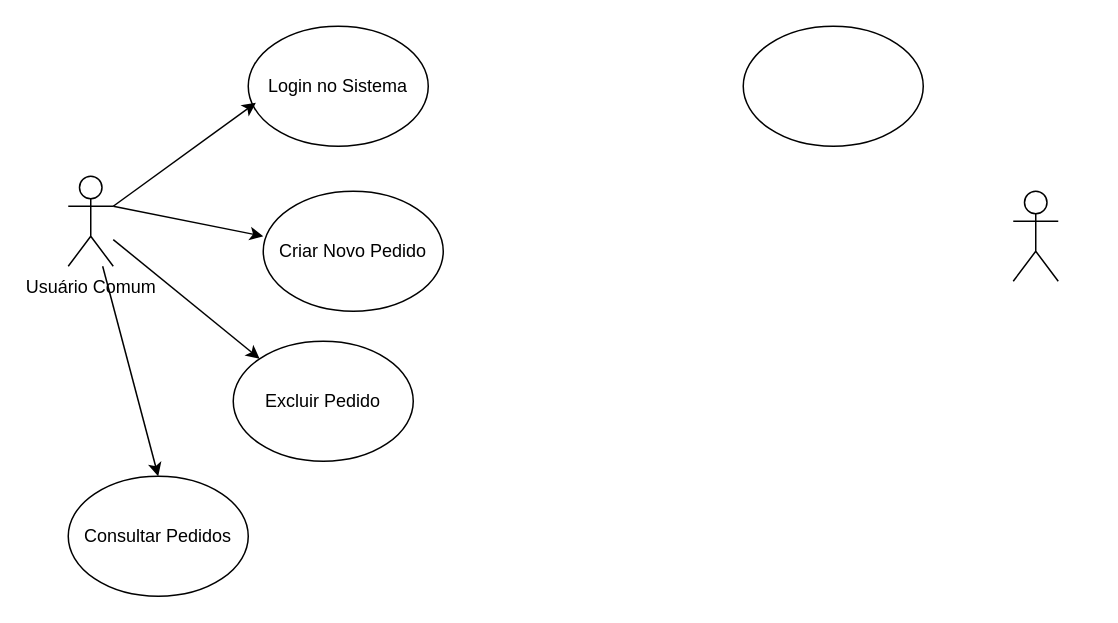
The diagram is 1118 pixels wide and 623 high, and some of its shapes have lost their labels. The shapes that lost their labels are listed below. From the top down, each one's centre as x and y in pixels, then its label:
At (832,85): "Administrar Usuários".
At (1035,235): "Administrador".
